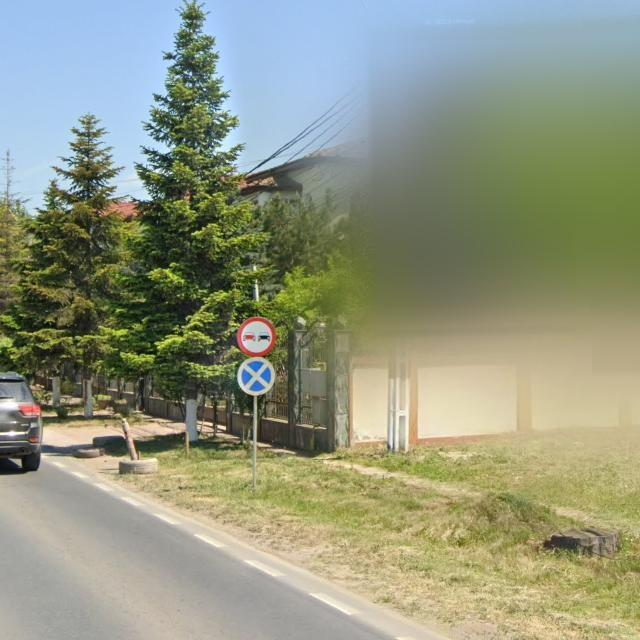forb_overtake: (237, 316, 277, 357)
forb_waiting: (237, 358, 276, 395)
